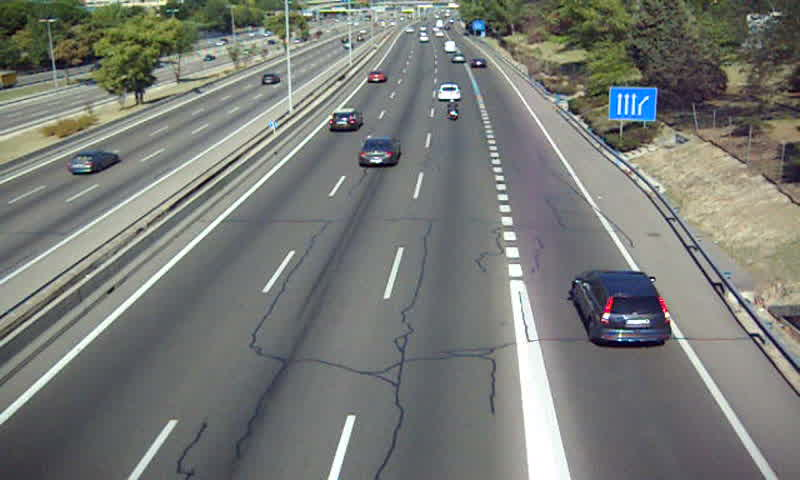car: (571, 270, 672, 345), (358, 137, 401, 167), (329, 109, 362, 132), (436, 84, 462, 102), (366, 71, 385, 86)
motorcycle: (444, 98, 462, 120)
